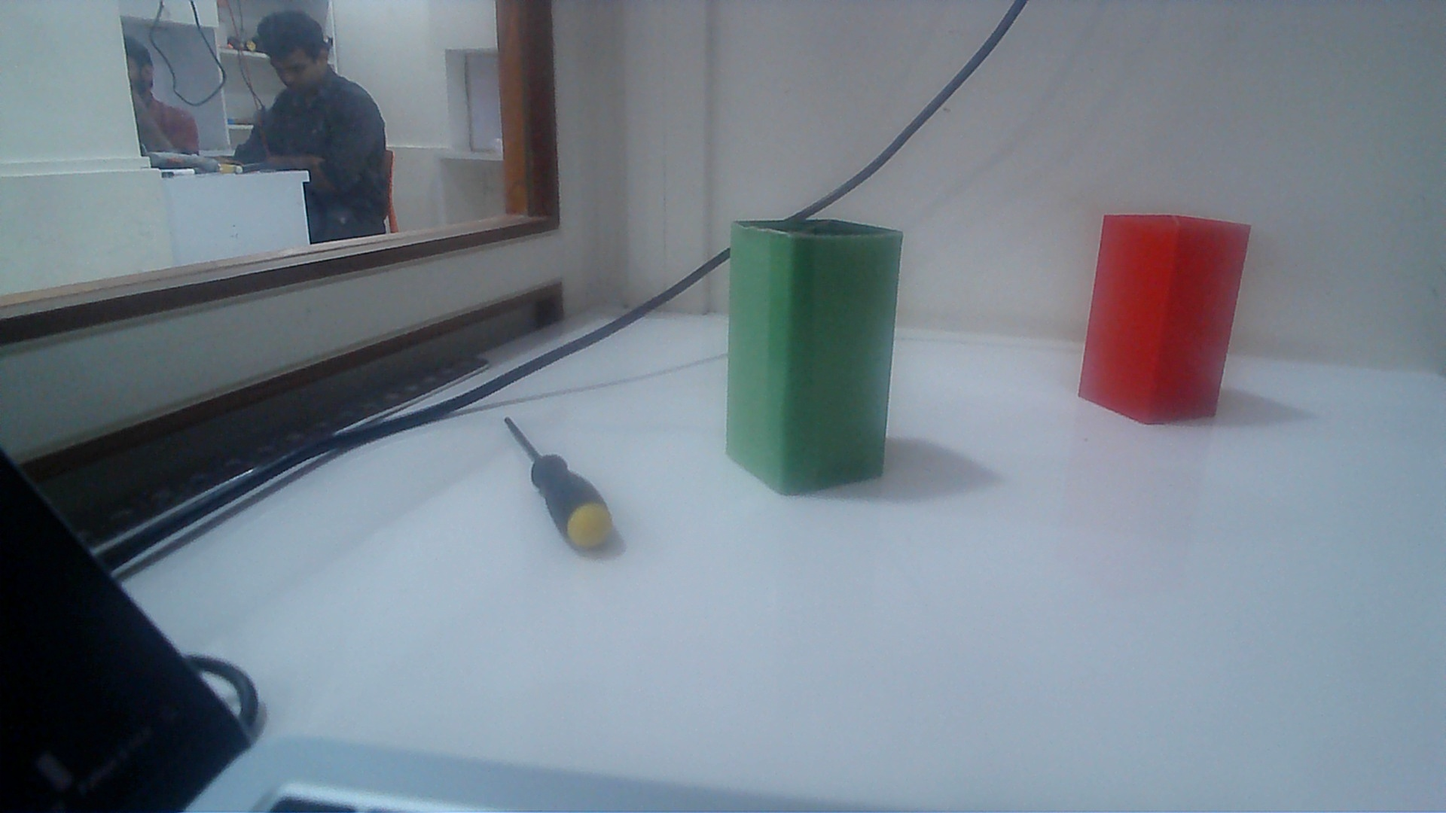green: (721, 220, 898, 495)
